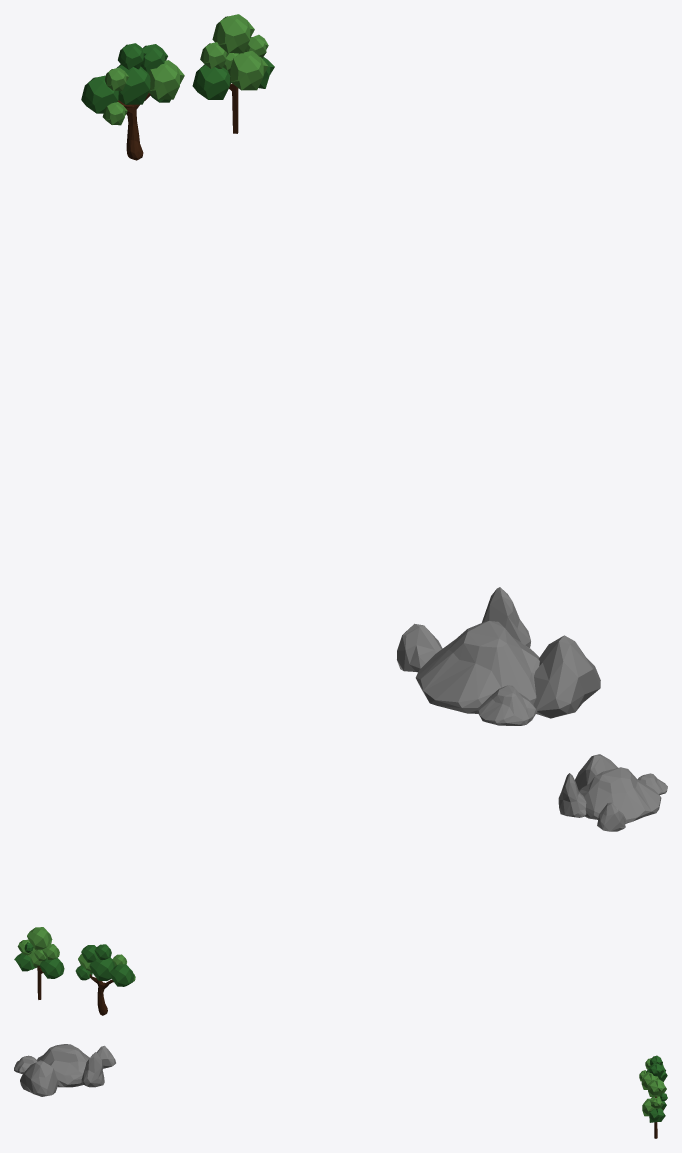
File: Project7.fbx
3 views of the same model, one above another, from view 1: azimuth 30°, elevation 25°; view 2: azimuth 150°, elevation 25°; view 3: azimuth 270°, elevation 25° (orthographic). The views are drawn at different scales.
Parts seen in each view (by area): view 1: Icosphere.005, Icosphere.013, Cylinder.001; view 2: Icosphere.005, Icosphere.013, Cylinder.001; view 3: Icosphere.005, Cylinder.001, Icosphere.013.
Part boxes in pixels (x1=…): Icosphere.005: x1=397, y1=587, x2=600, y2=725; Icosphere.013: x1=81, y1=43, x2=184, y2=160; Cylinder.001: x1=192, y1=14, x2=274, y2=133; Icosphere.005: x1=558, y1=754, x2=667, y2=831; Icosphere.013: x1=75, y1=944, x2=135, y2=1015; Cylinder.001: x1=14, y1=927, x2=64, y2=999; Icosphere.005: x1=14, y1=1044, x2=115, y2=1096; Cylinder.001: x1=642, y1=1078, x2=667, y2=1138; Icosphere.013: x1=639, y1=1055, x2=667, y2=1089.
Size of the model in its own units: 905 by 325 by 2338.
